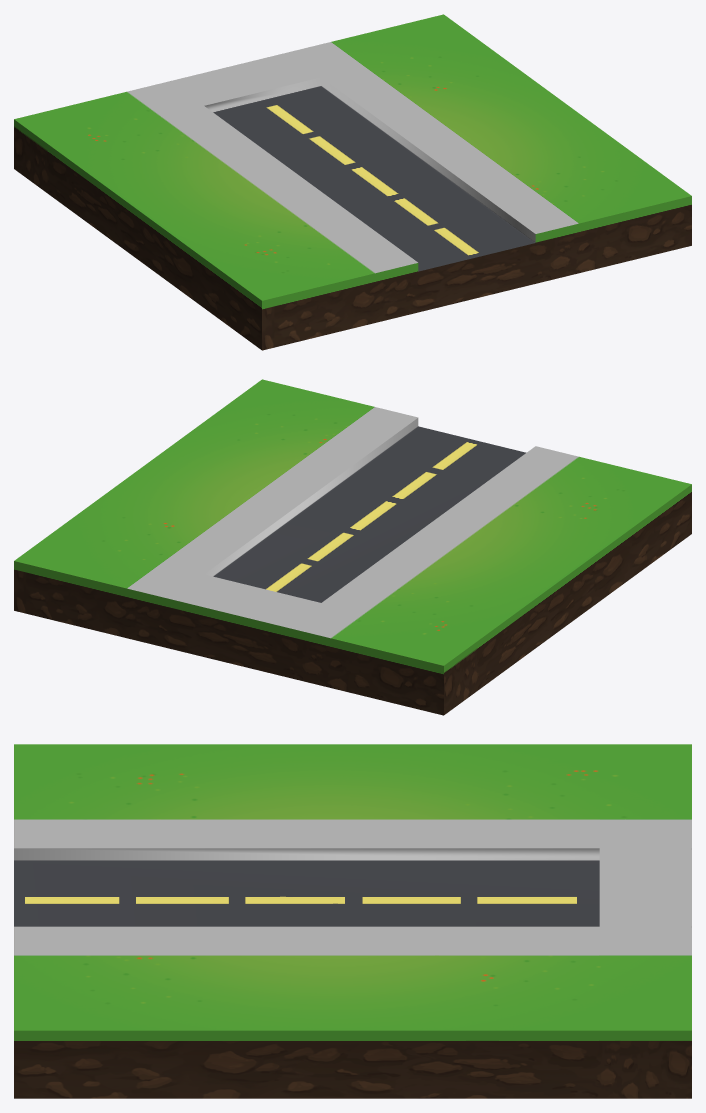
File: city_road_06.fbx
The picture shows the model from 3 angles, top to bottom: view 1: azimuth 30°, elevation 25°; view 2: azimuth 150°, elevation 25°; view 3: azimuth 270°, elevation 25°; orthographic projection. The views are drawn at different scales.
Visible parts, largest first — view 1: road_06; view 2: road_06; view 3: road_06.
Part boxes in pixels (left/top/right/bottom): road_06: left=14, top=14, right=691, bottom=350; road_06: left=14, top=379, right=691, bottom=715; road_06: left=14, top=744, right=691, bottom=1098.
Size of the model in its own units: 22 by 2.43 by 22.
